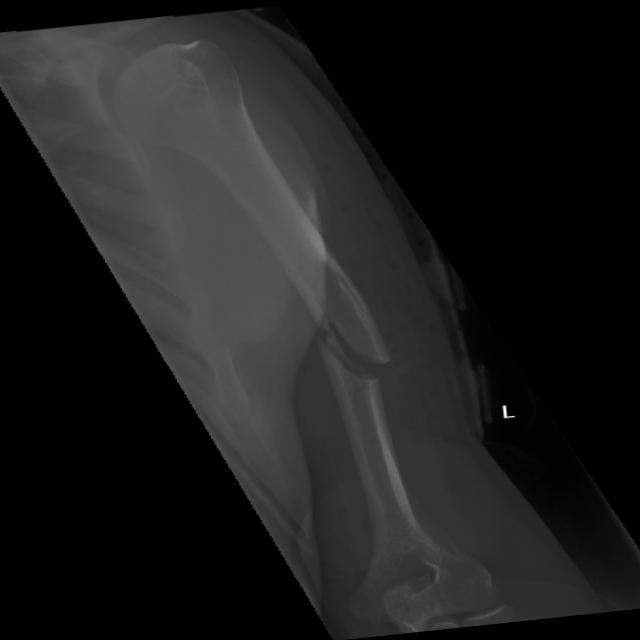humerus fracture: (261, 221, 450, 476)
